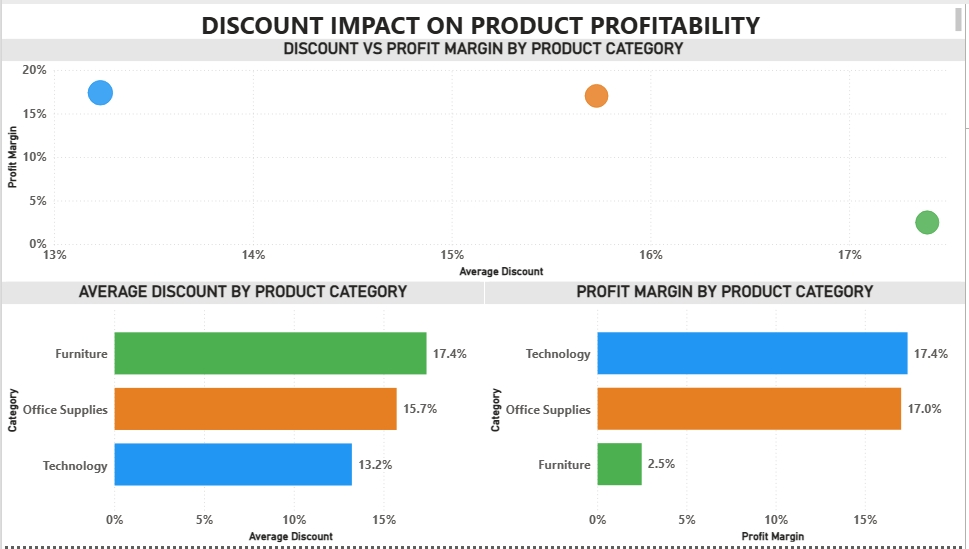

The page's visual inventory and layout, read from the dashboard file:
{"tool":"powerbi","page":{"name":"Discount Impact on Product Profitability","canvas":[1280,720],"ordinal":2},"visuals":[{"type":"scatterChart","title":"DISCOUNT VS PROFIT MARGIN BY PRODUCT CATEGORY","fields":{"Category":["Orders.Category"],"X":["Orders.Average Discount"],"Y":["Orders.Profit Margin"],"Size":["Orders.Total Sales"]},"box":[0,46,1280,322],"z":0},{"type":"clusteredBarChart","title":"AVERAGE DISCOUNT BY PRODUCT CATEGORY","fields":{"Y":["Orders.Average Discount"],"Category":["Orders.Category"]},"box":[0,368.5,640.6,351.5],"z":1000},{"type":"clusteredBarChart","title":"PROFIT MARGIN BY PRODUCT CATEGORY","fields":{"Y":["Orders.Profit Margin"],"Category":["Orders.Category"]},"box":[641,369,638,351],"z":2000},{"type":"textbox","box":[0,0,1280,46],"z":3000}]}

Visuals, with their boxes in screenshot pixels (x1, y1, x2, y2), scaled from the page's 1280x720 canvas onto the 969x549 screenshot:
"DISCOUNT VS PROFIT MARGIN BY PRODUCT CATEGORY" scatterChart: 0,35,968,281
"AVERAGE DISCOUNT BY PRODUCT CATEGORY" clusteredBarChart: 0,281,485,548
"PROFIT MARGIN BY PRODUCT CATEGORY" clusteredBarChart: 485,281,968,548
textbox: 0,0,968,35
